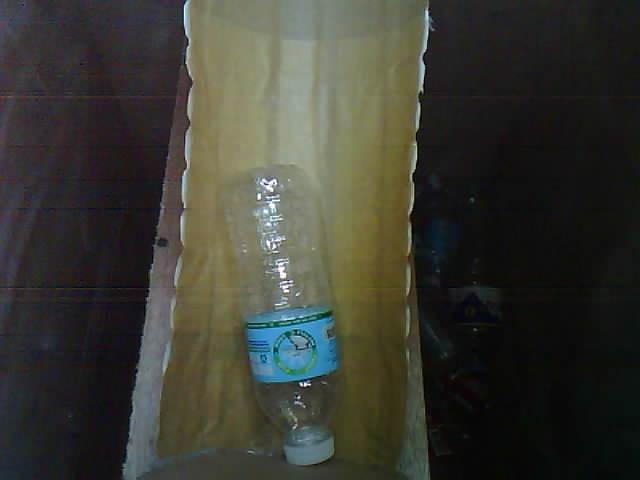small_bottle: (204, 154, 359, 480)
